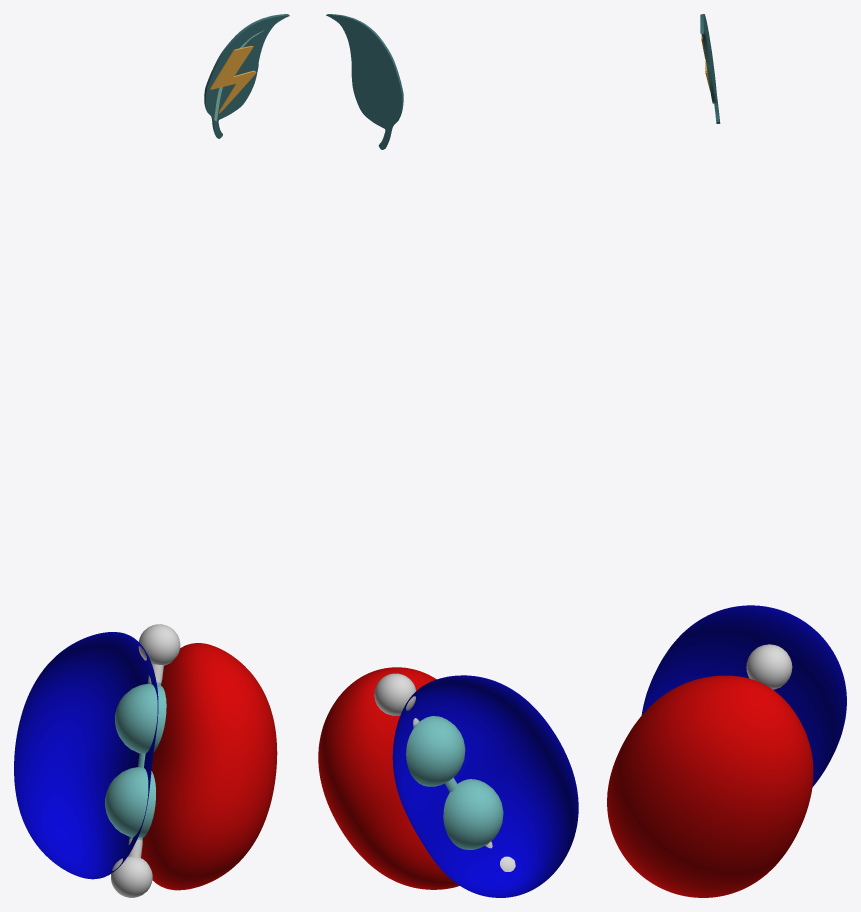
The model's file is c2h2_trip_en.glb.
3 renders of one model, left to right at view 1: azimuth 30°, elevation 25°; view 2: azimuth 150°, elevation 25°; view 3: azimuth 270°, elevation 25°, orthographic. The views are drawn at different scales.
Visible parts, largest first — view 1: c2h2_trip_en, path182, path186; view 2: c2h2_trip_en, path182; view 3: c2h2_trip_en, path182.
Part boxes in pixels (x1,y1,x2,y2): c2h2_trip_en: [14, 624, 277, 897]; path182: [204, 14, 289, 138]; path186: [210, 46, 256, 113]; c2h2_trip_en: [318, 667, 578, 897]; path182: [326, 14, 403, 149]; c2h2_trip_en: [607, 605, 846, 897]; path182: [700, 14, 720, 123].
Size of the model in its own units: 1.85 by 5.96 by 1.41.
